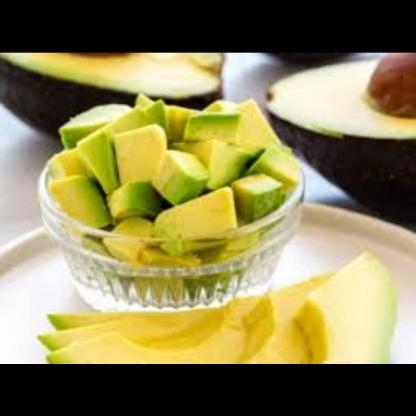avocado: (13, 97, 300, 264), (30, 235, 398, 363), (258, 51, 416, 209), (0, 52, 234, 128)
